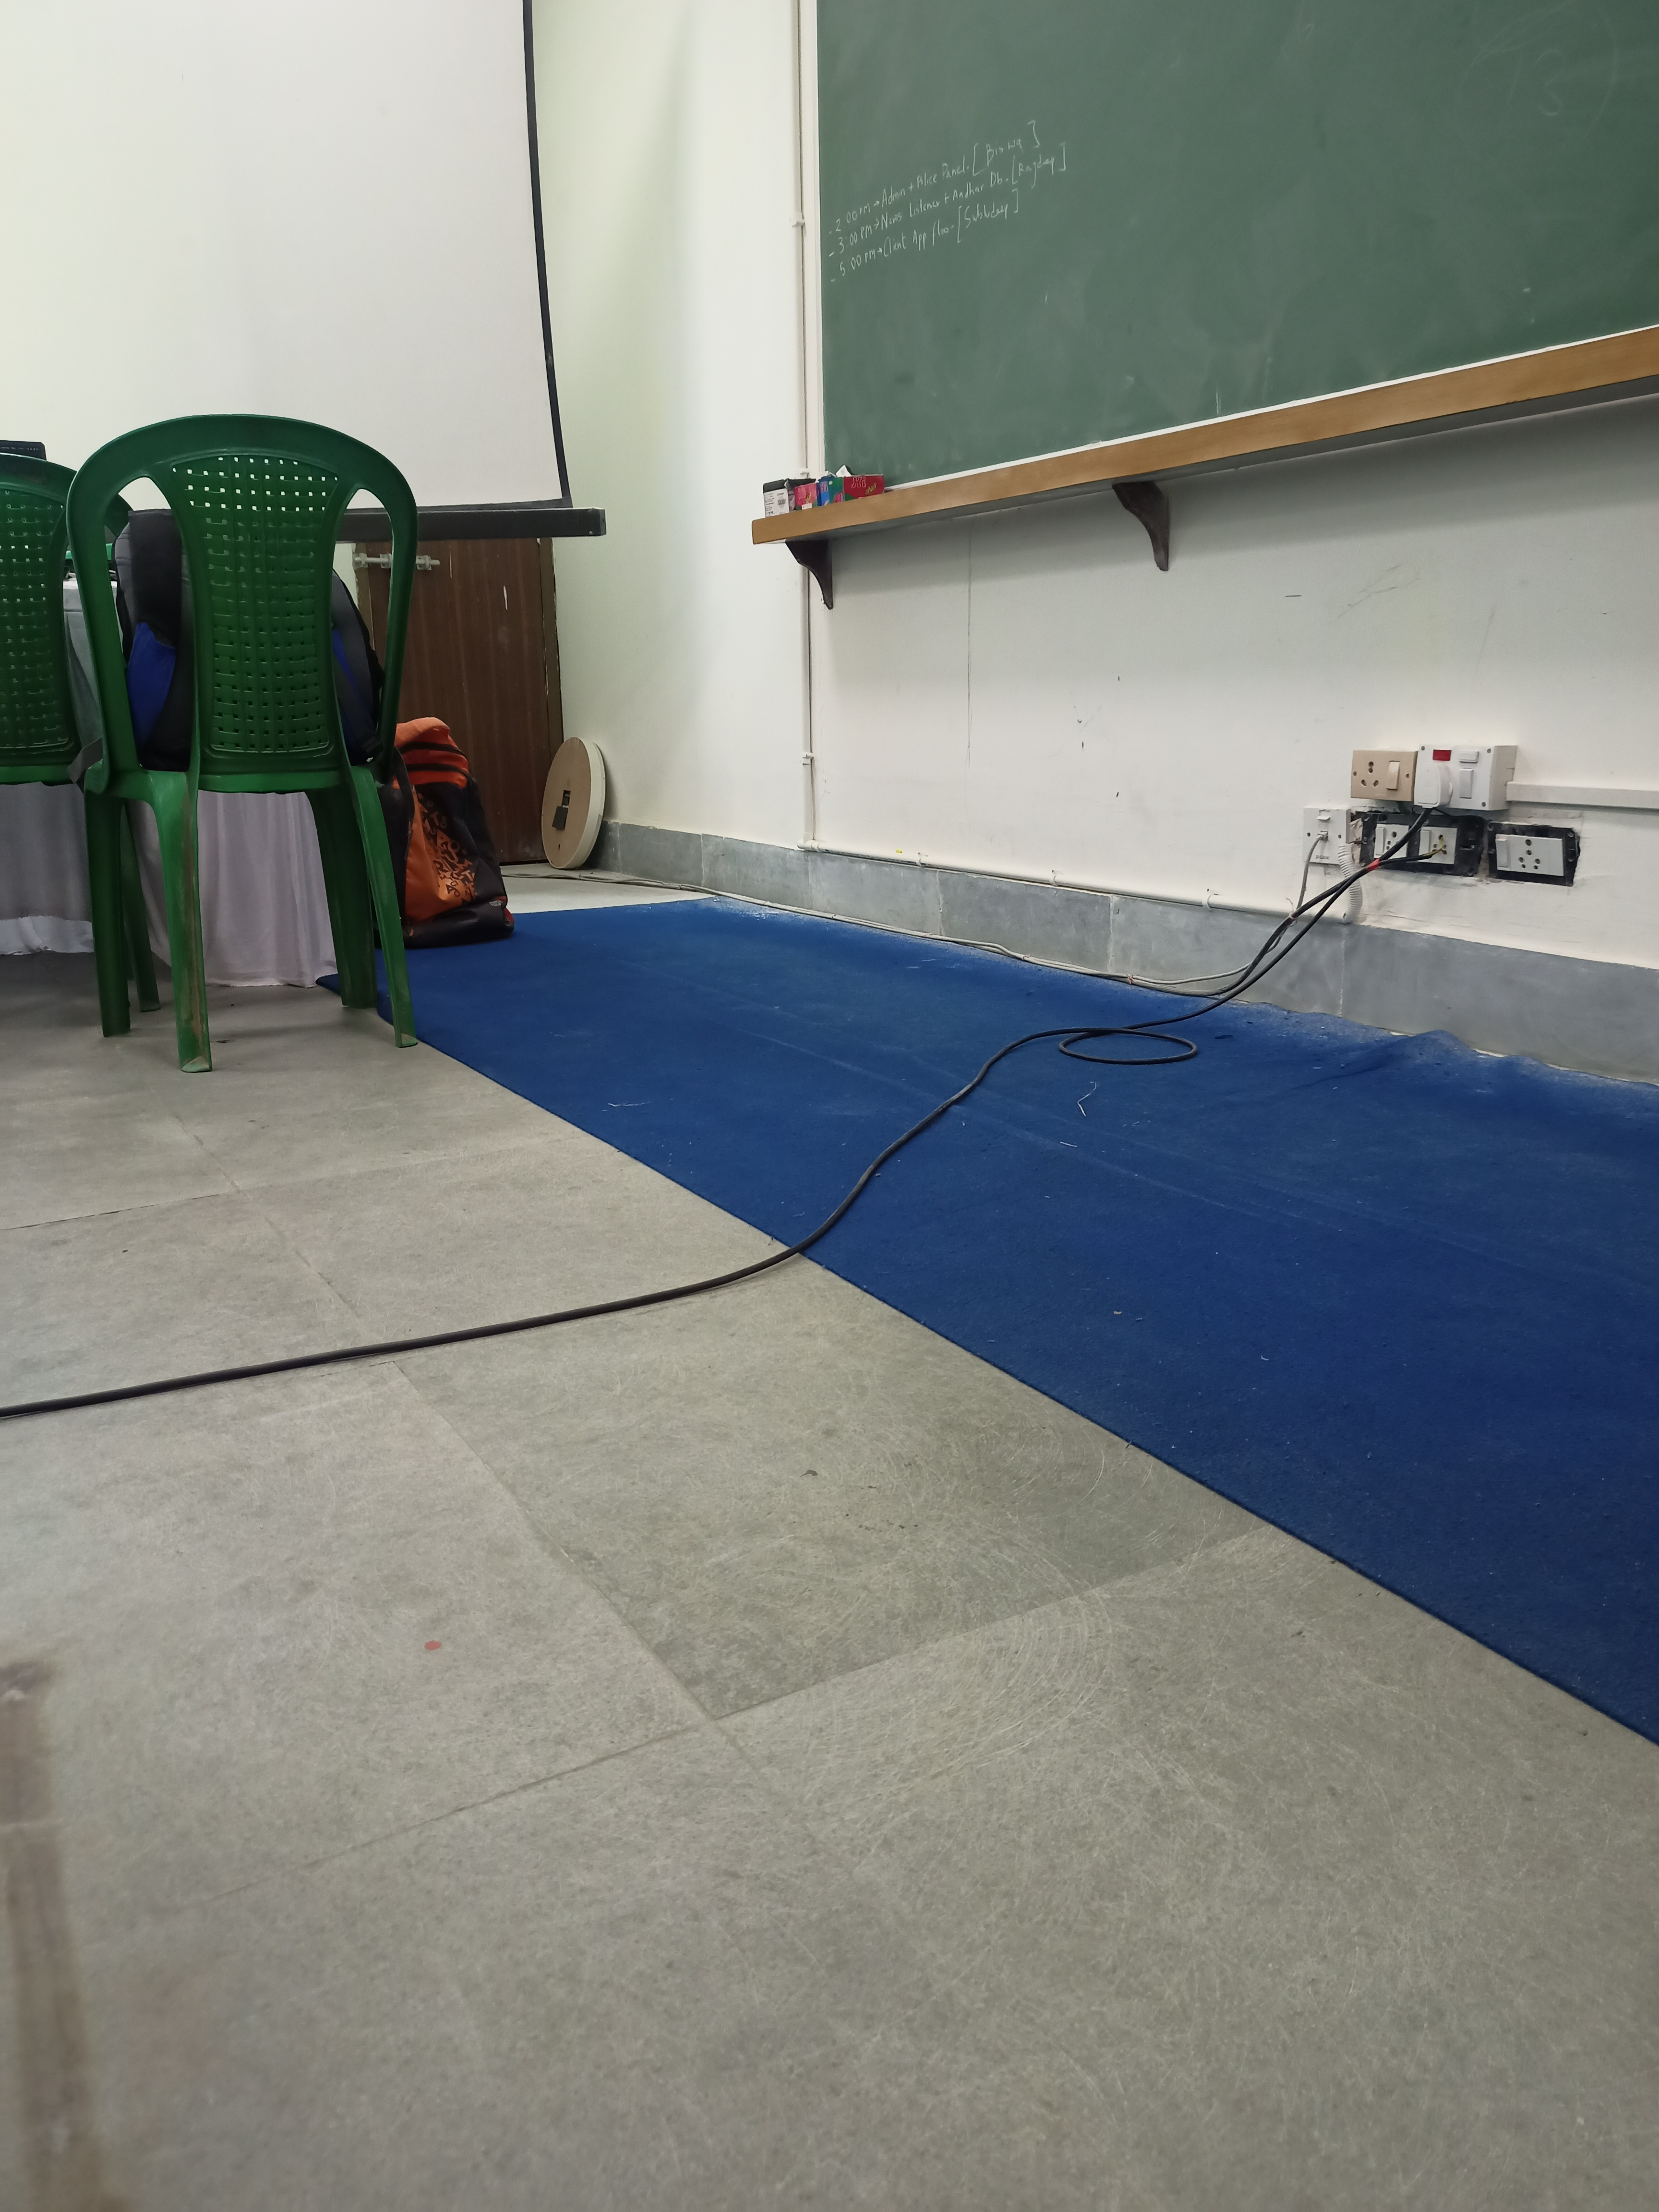Obstacle: (7, 516, 376, 1054)
Path: (261, 993, 1382, 2179)
